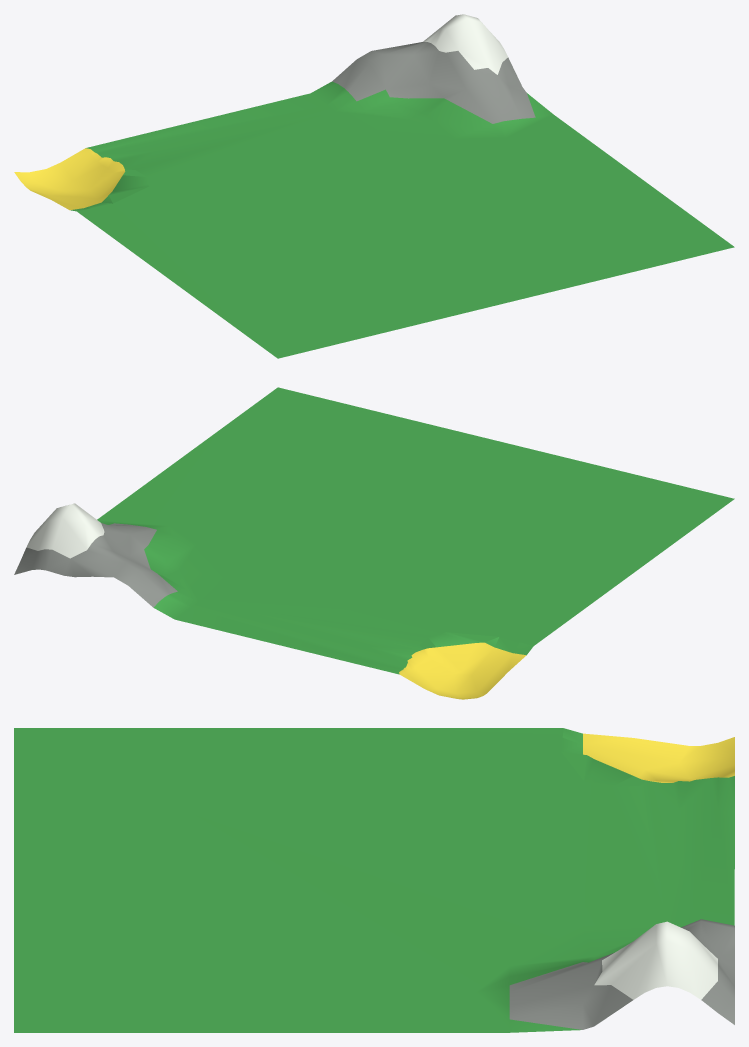
Rendered from terrain.fbx.
The picture shows the model from 3 angles, top to bottom: view 1: azimuth 30°, elevation 25°; view 2: azimuth 150°, elevation 25°; view 3: azimuth 270°, elevation 25°; orthographic projection. The views are drawn at different scales.
Parts seen in each view (by area): view 1: pPlane1; view 2: pPlane1; view 3: pPlane1.
Boxes of the visible parts, bbox=[...] form: pPlane1: bbox=[14, 14, 734, 358]; pPlane1: bbox=[14, 387, 734, 699]; pPlane1: bbox=[14, 728, 734, 1032].
Bounding box in the file's own units: 10 × 1.82 × 10.
Materials: 1 (1 with a texture image).
